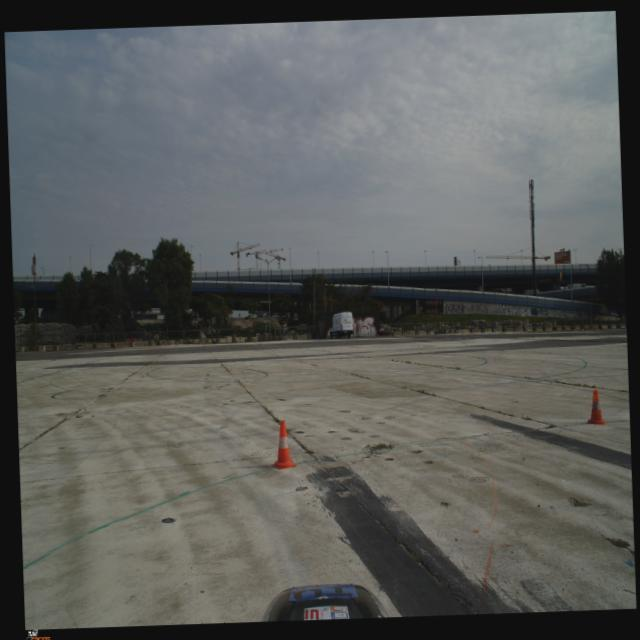orange_cone: (270, 420, 296, 469), (584, 388, 606, 426)
